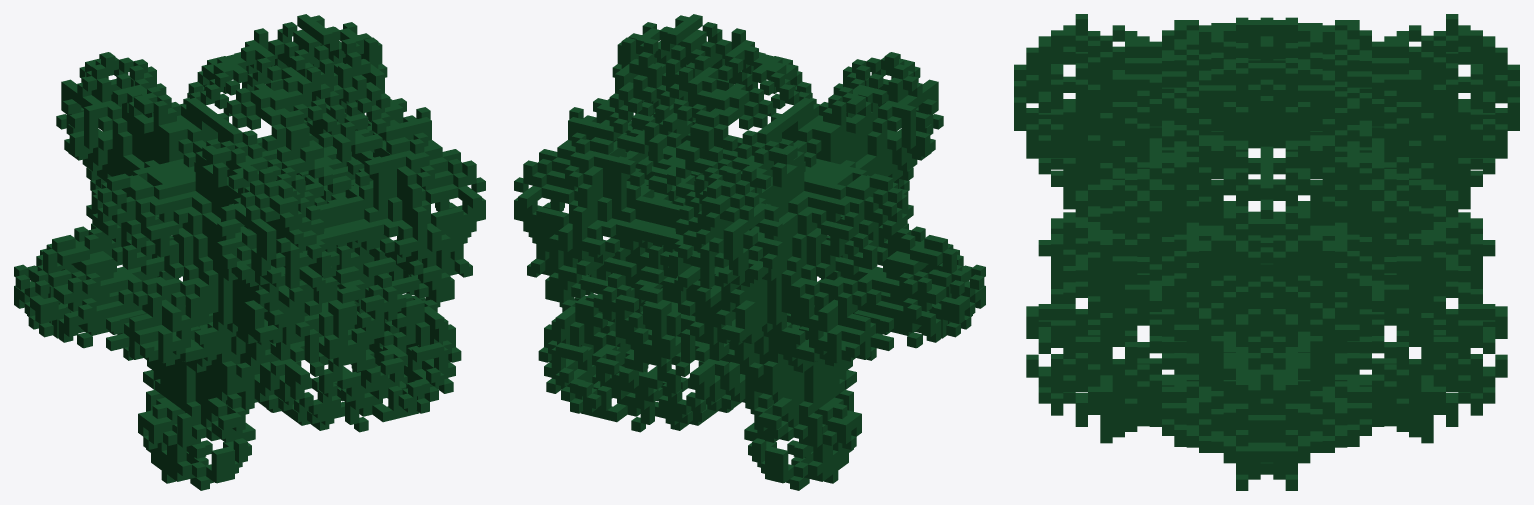
File: drzewko-42.obj
3 renders of one model, left to right at view 1: azimuth 30°, elevation 25°; view 2: azimuth 150°, elevation 25°; view 3: azimuth 270°, elevation 25°, orthographic. The views are drawn at different scales.
Bounding box in the file's own units: 4.4 × 4.4 × 4.1.
1 material, 1 textured.
